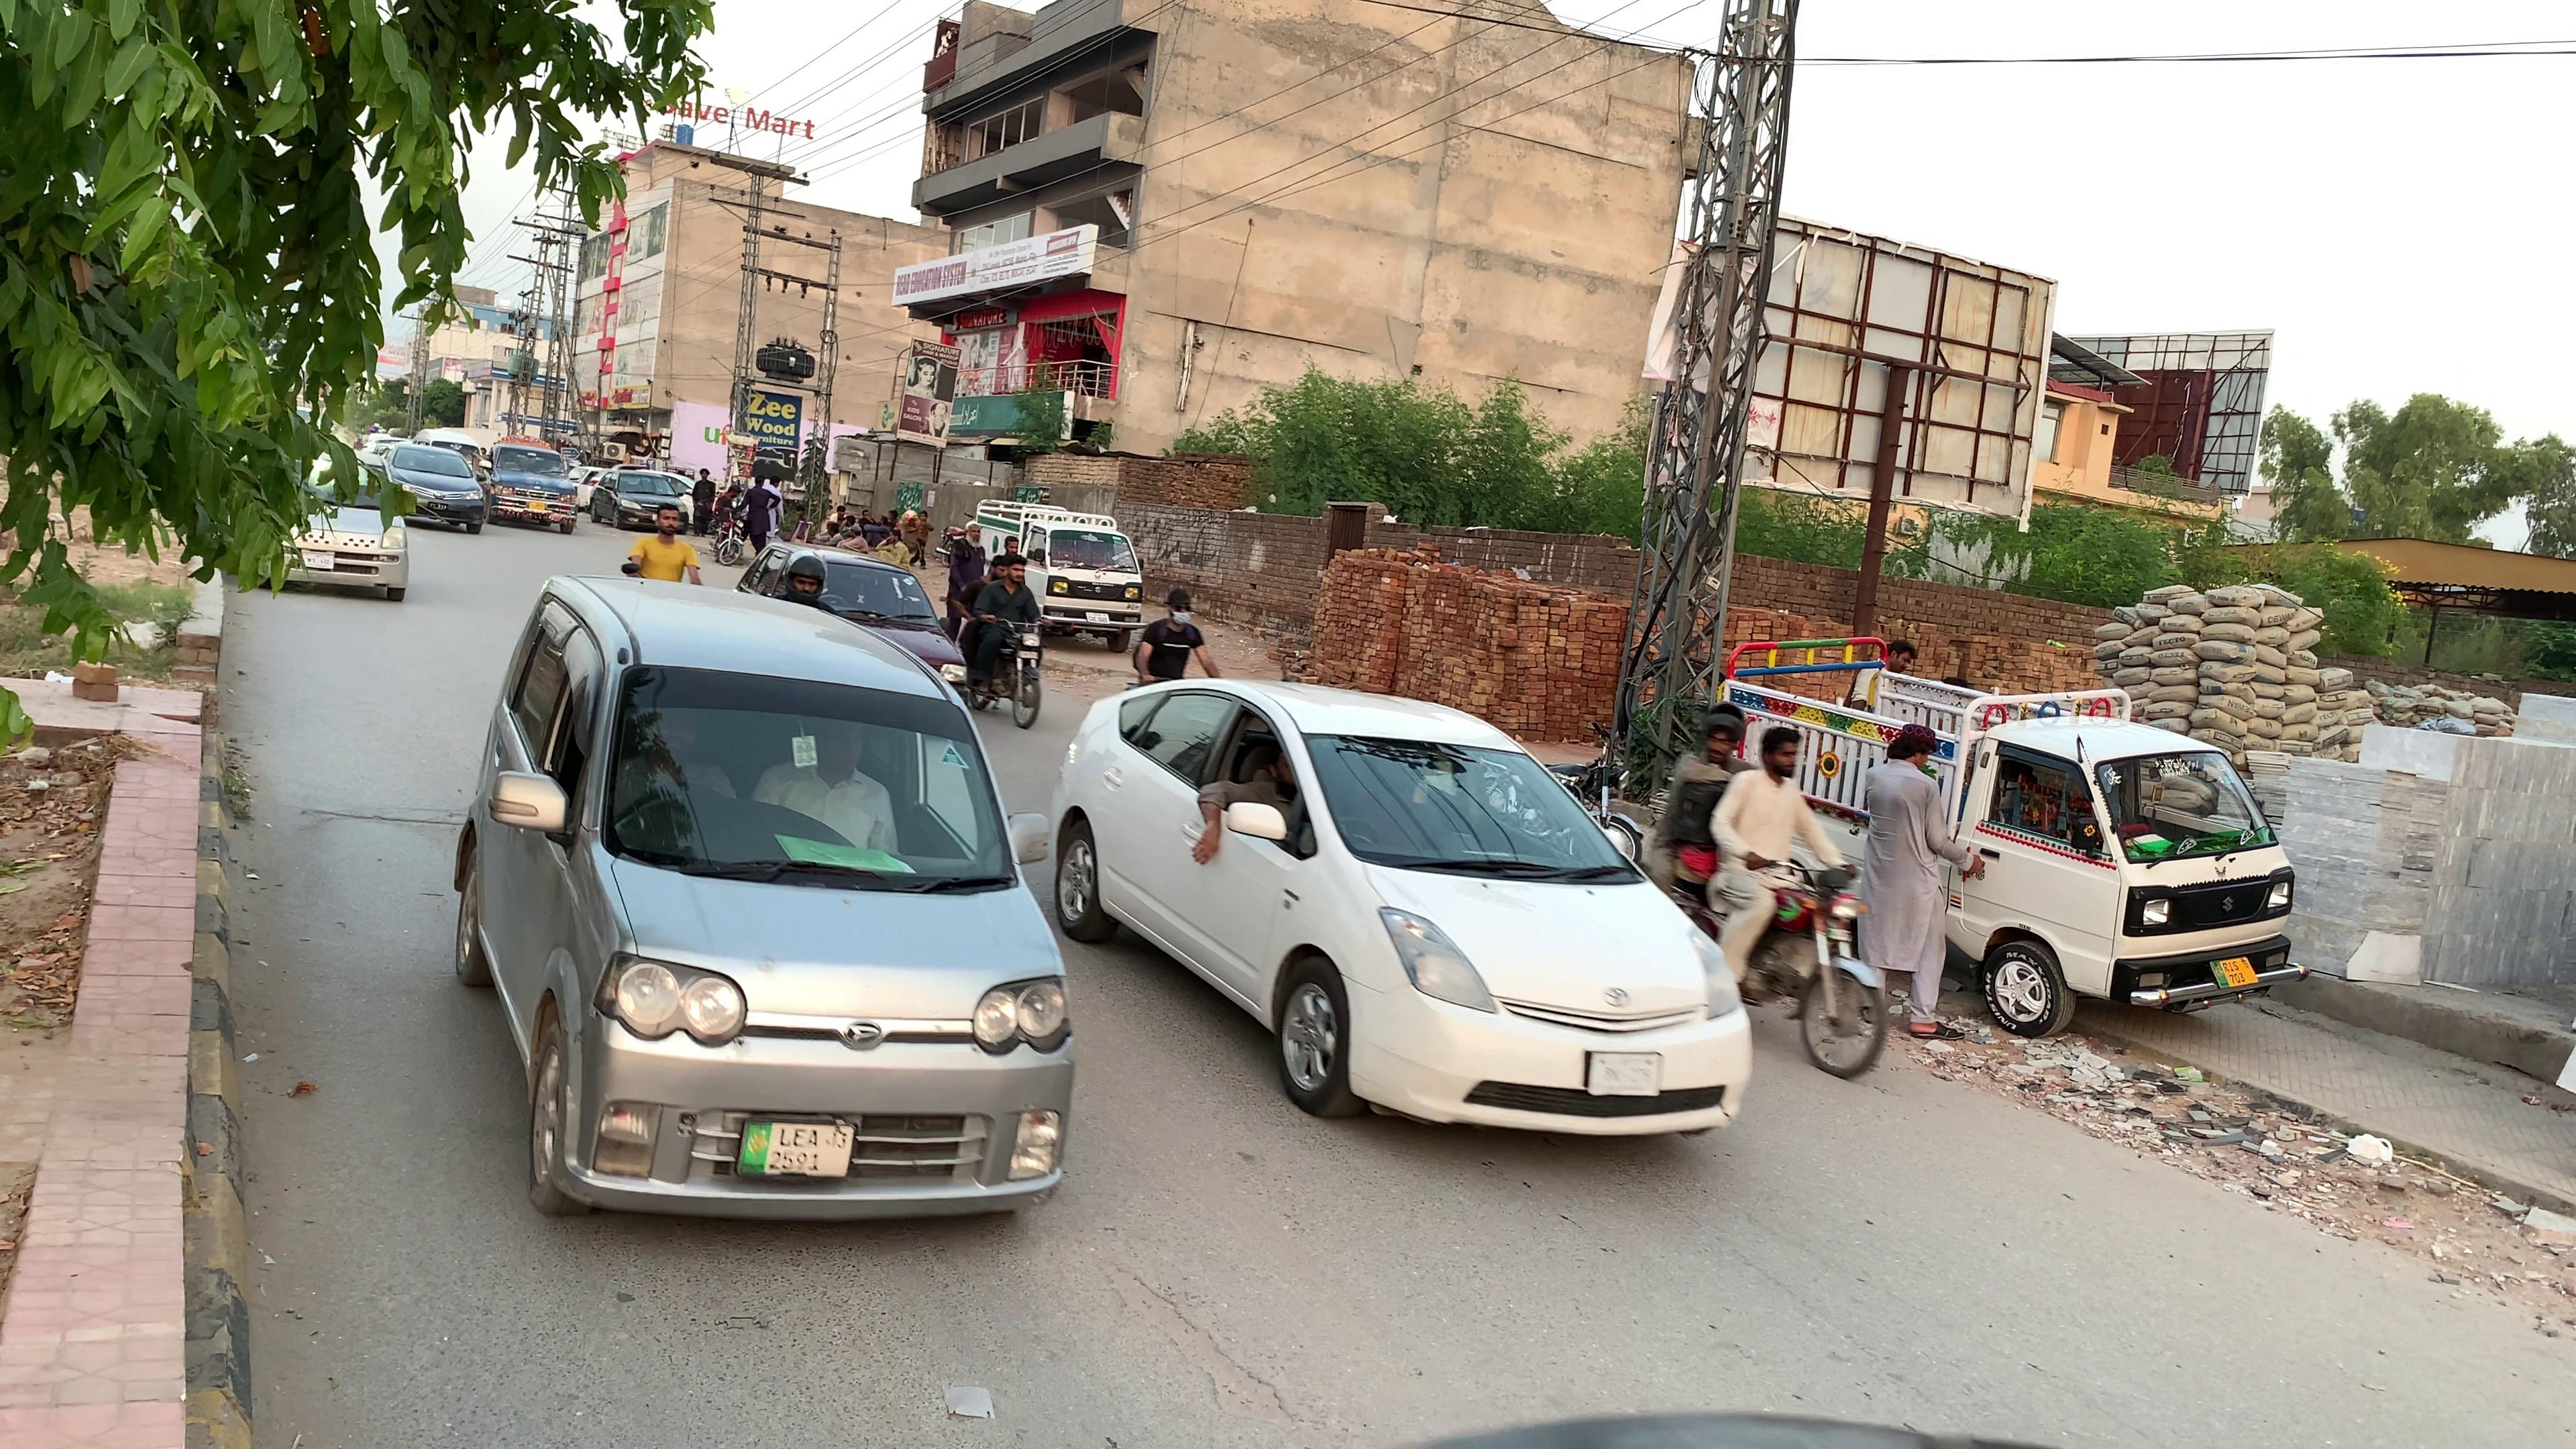windshield: (587, 660, 1024, 902), (1272, 715, 1651, 883)
